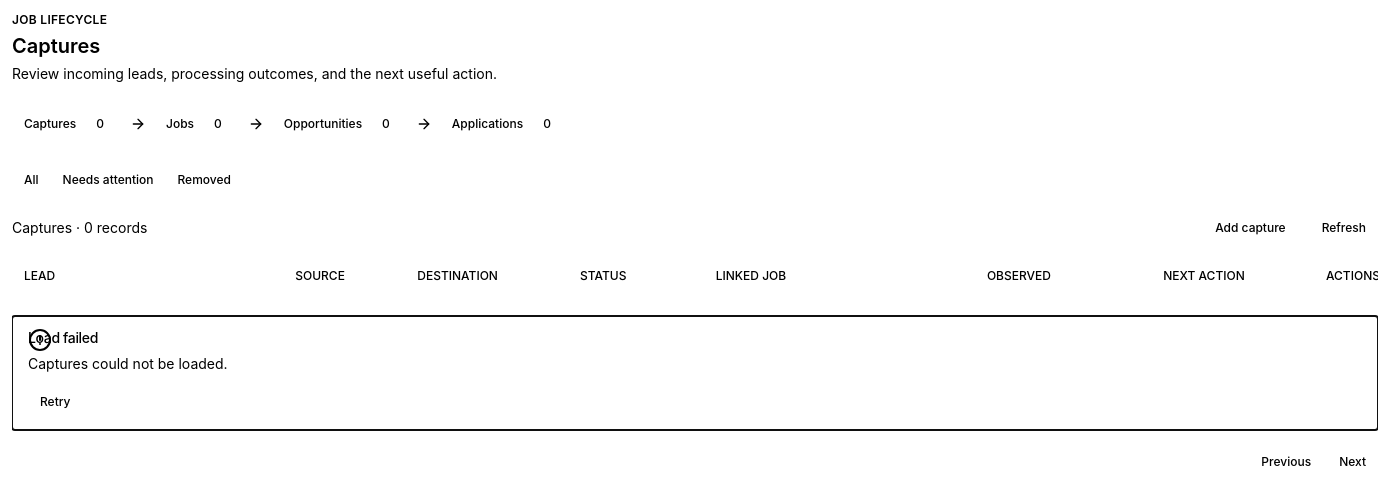
Test: validator fix 4: canonical Application resolution failure ownership › shows a canonical safe error when Application is not found, without dynamic id text
Click the button "Applications 0": (504, 124) [440,108,569,140]
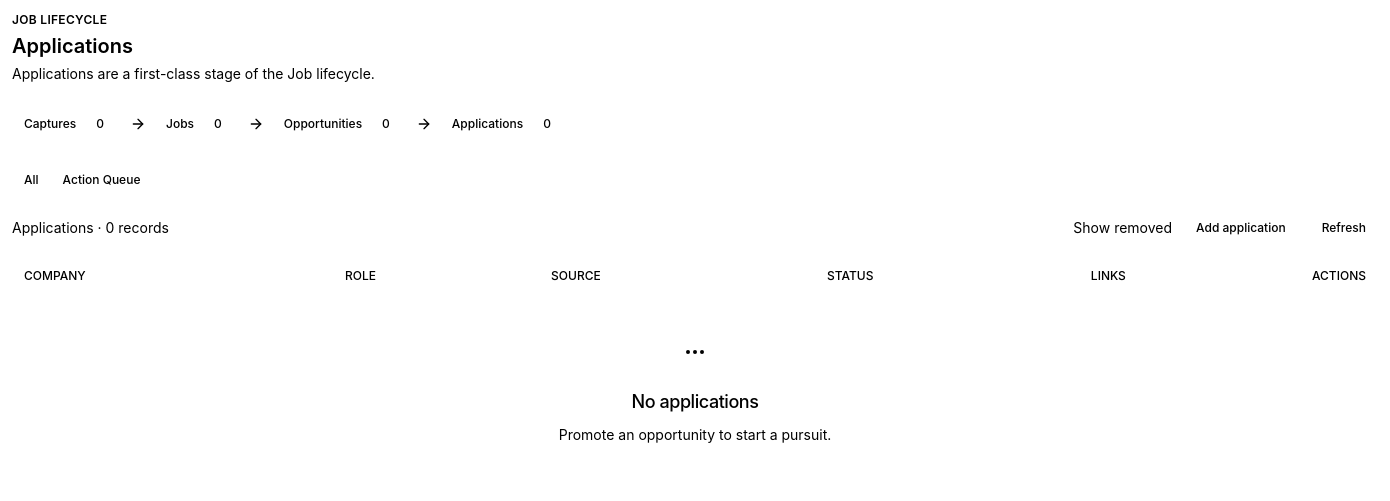
Click the radio button labelled "Action Queue": (102, 180) [51,164,152,196]
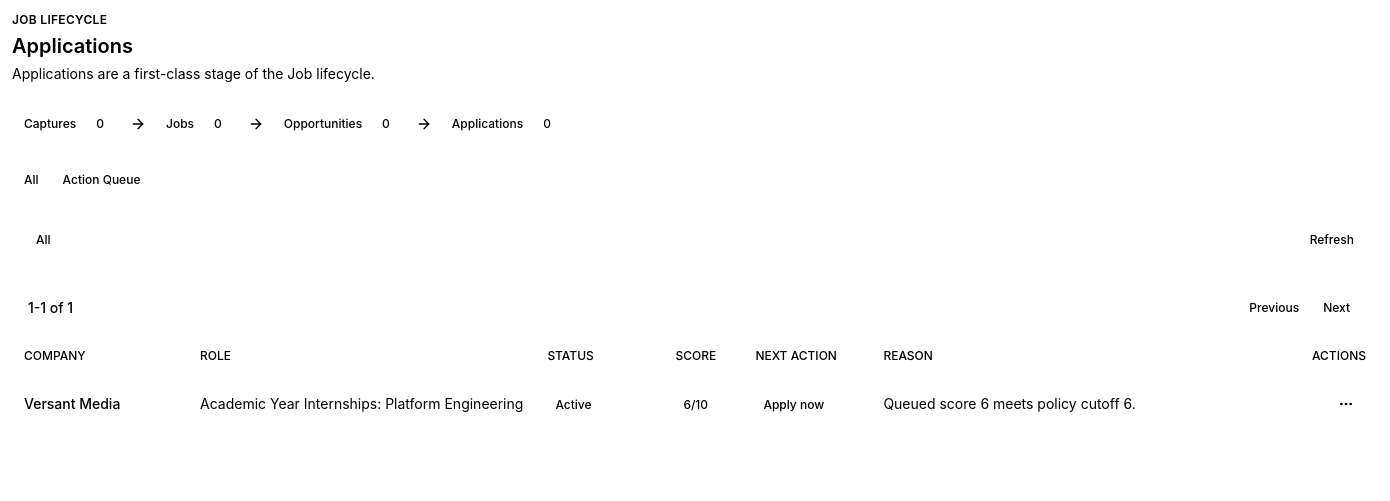
Check: the table named "Action Queue" is shown, box [12,336,1378,432]
Click the button named "Actions for row": (1346, 404) [1326,388,1366,420]
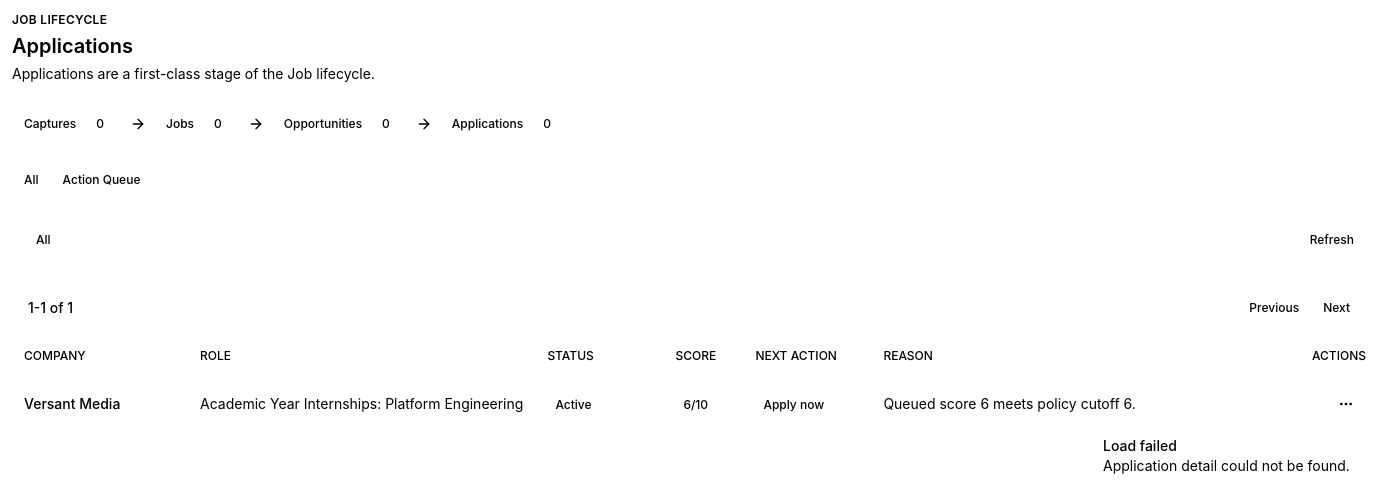
Check: the message with test id "queue-resolution-error" does not show "app-gone", box [1091,428,1362,484]
Check: the message with test id "queue-resolution-error" shows "Application detail could not be found.", box [1103,457,1350,474]
